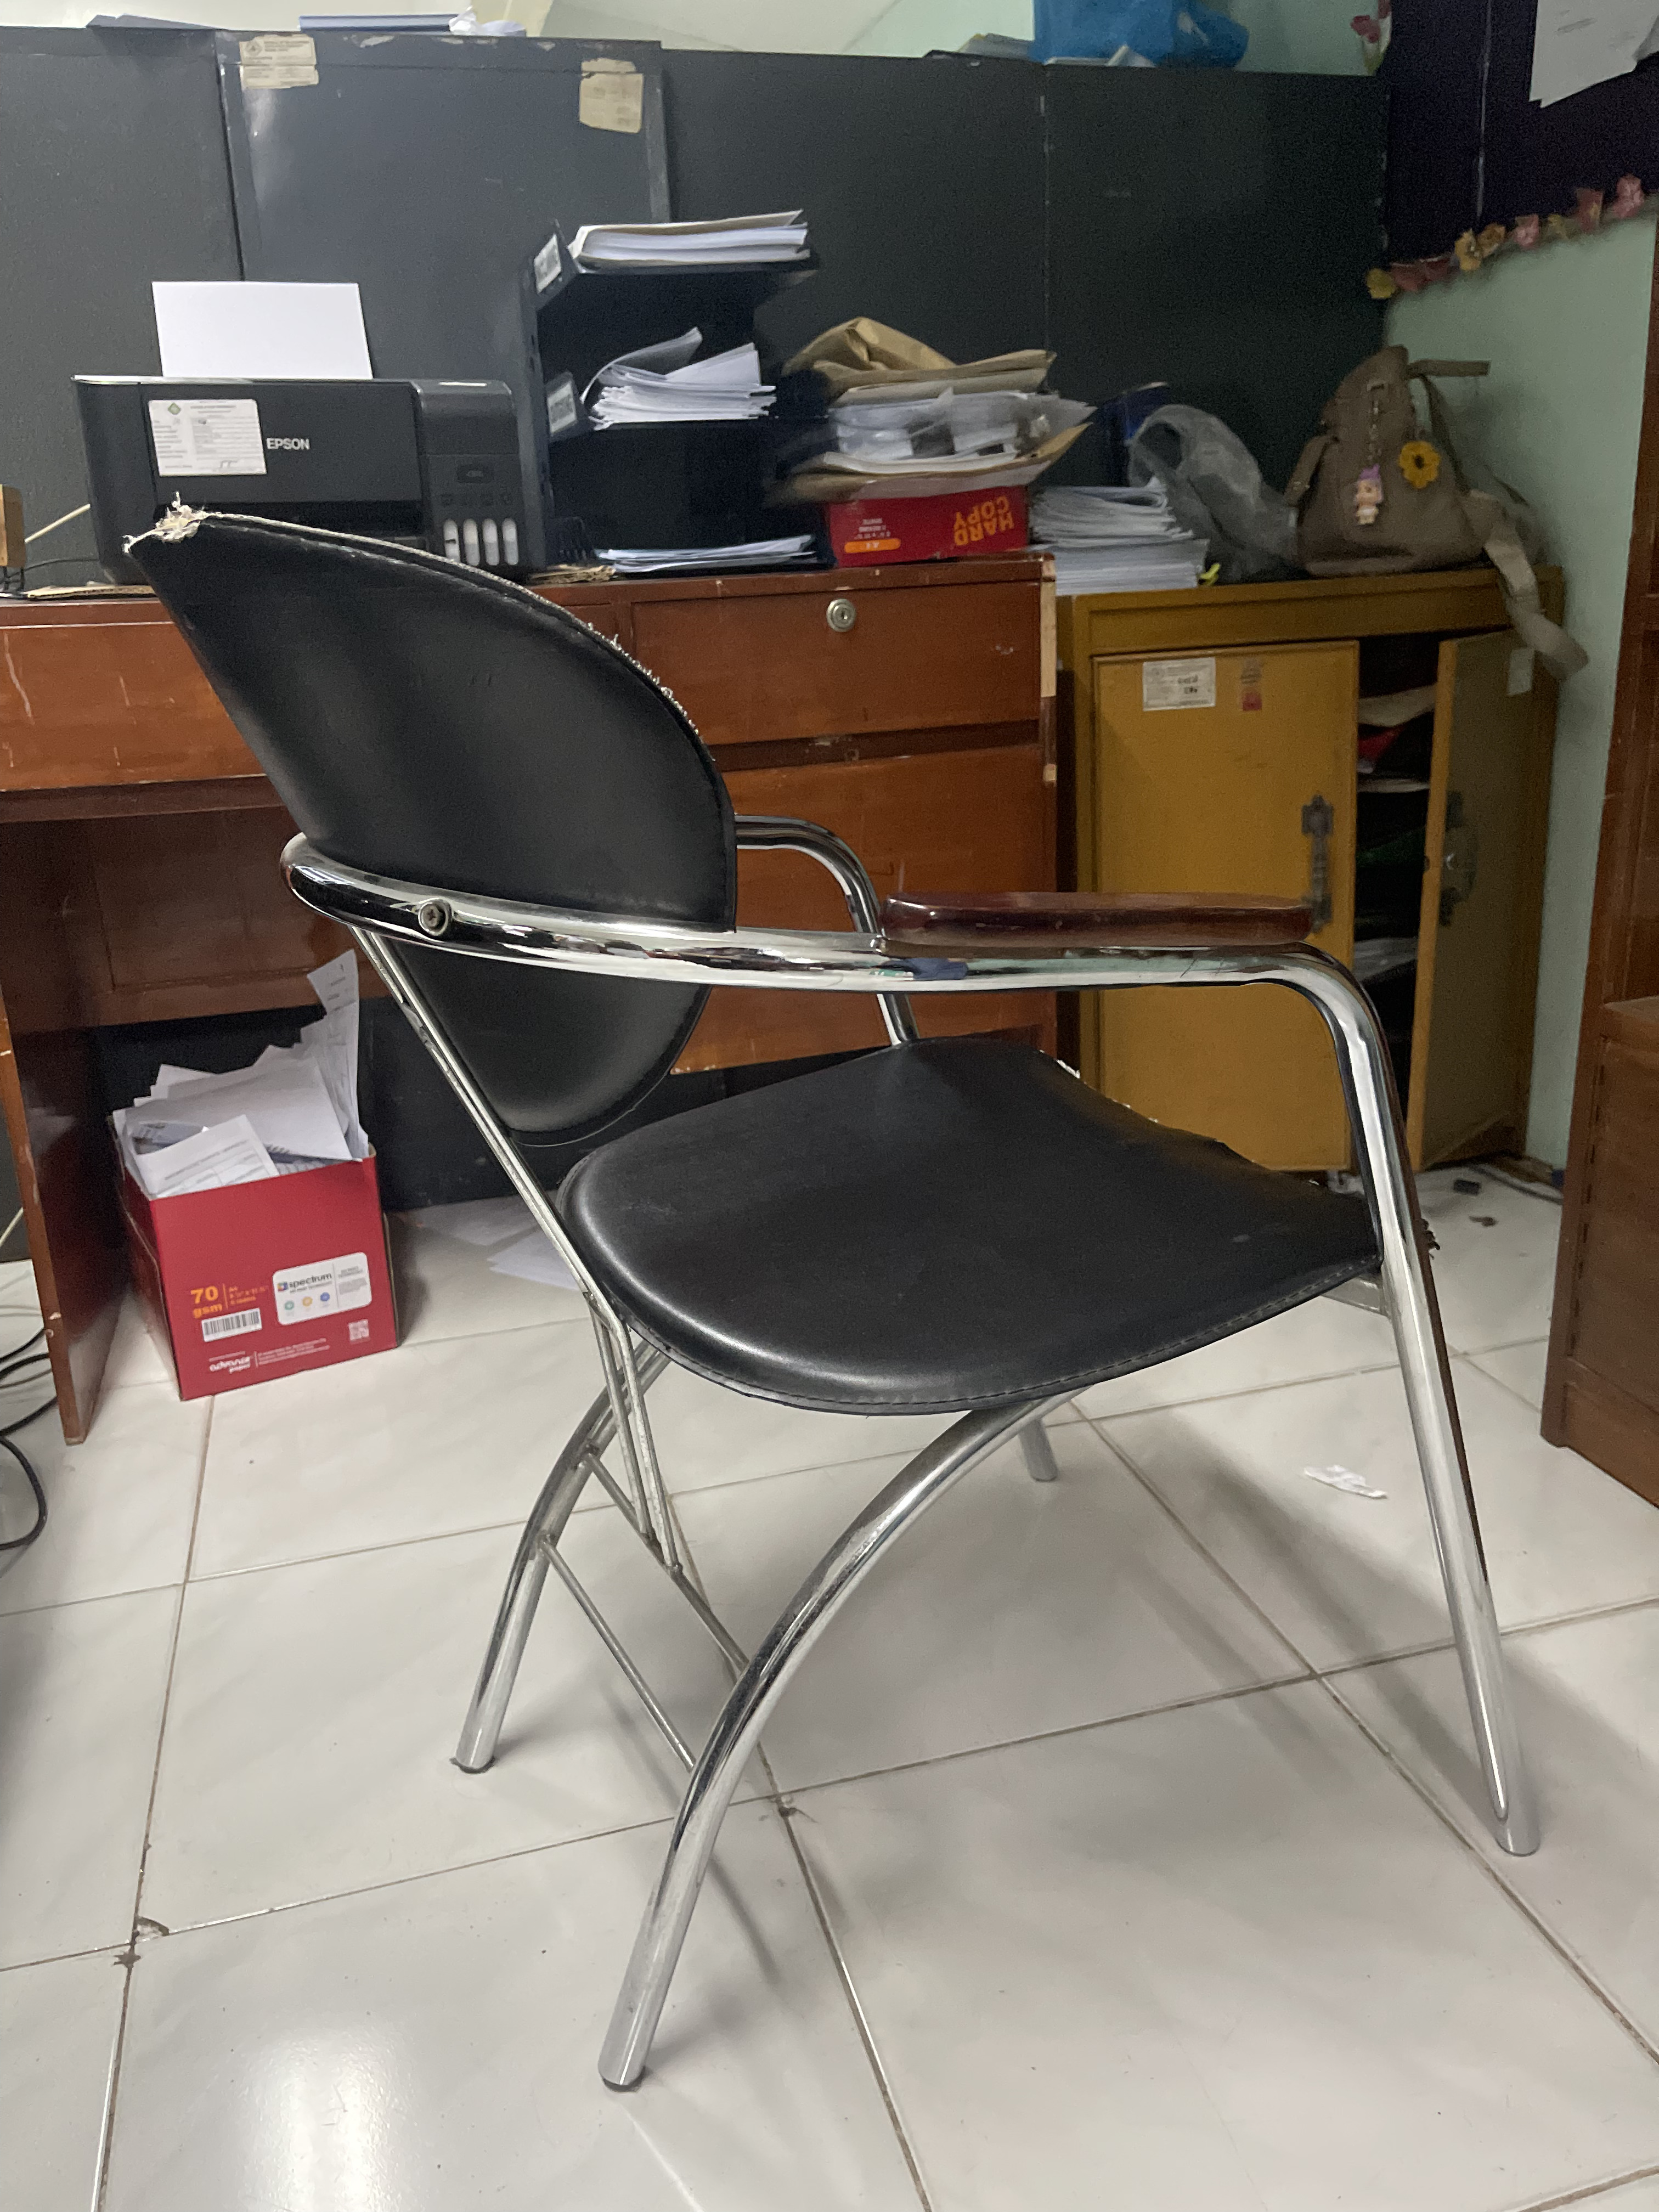chair1: (120, 507, 1554, 2102)
